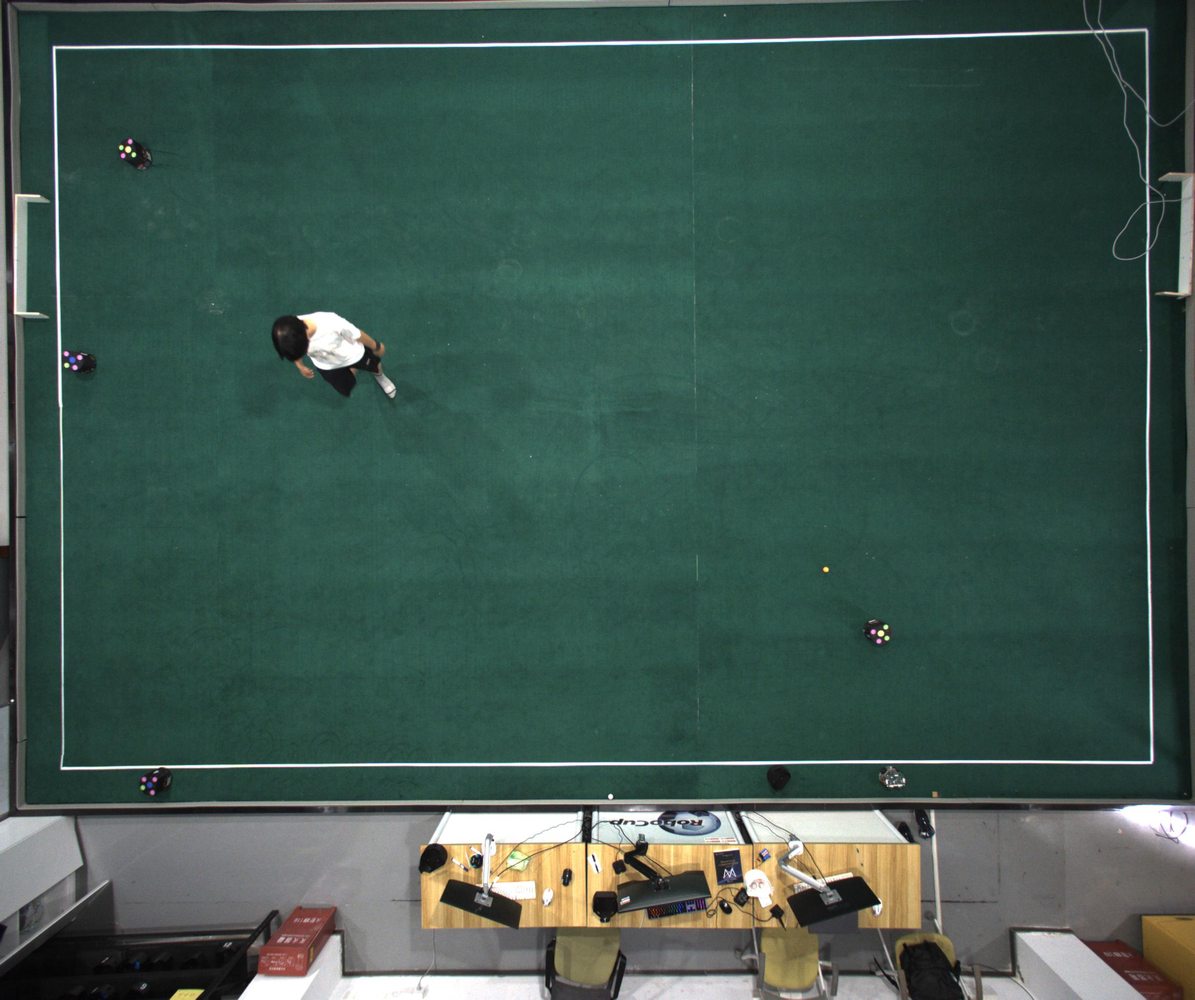ball: (822, 566, 830, 573)
blue_bot: (62, 350, 84, 373), (139, 775, 160, 797)
yellow_bot: (117, 138, 137, 161), (870, 624, 891, 645)
